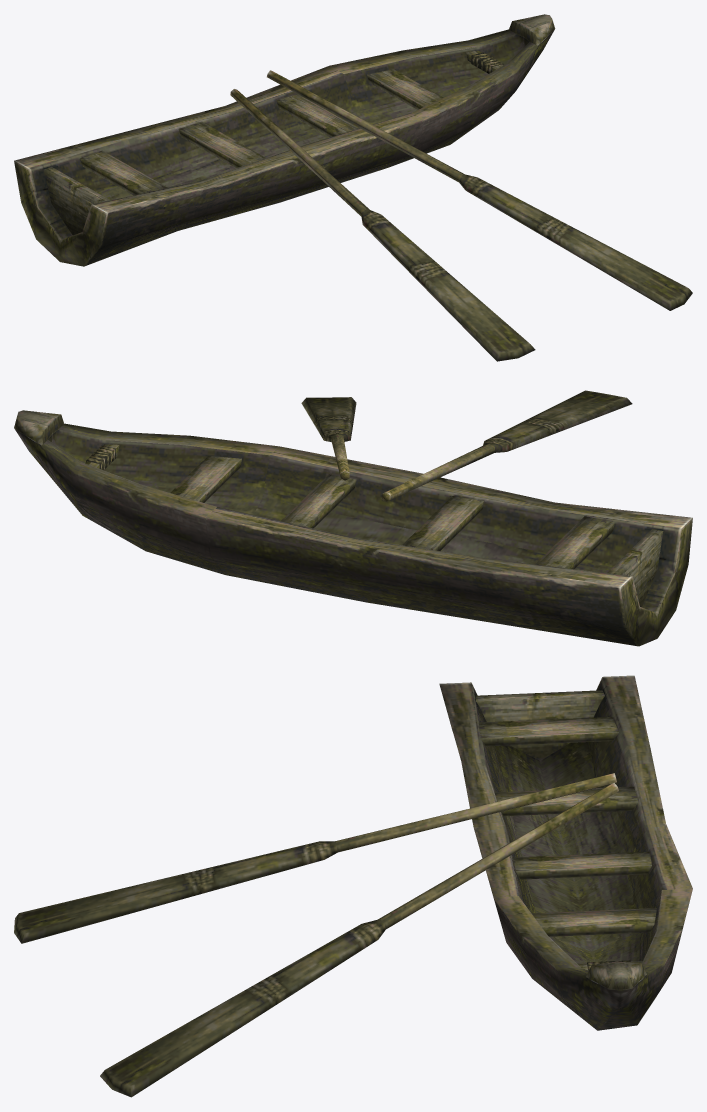
The model's file is 5010_Item_chuan_01.FBX.
3 renders of one model, top to bottom at view 1: azimuth 30°, elevation 25°; view 2: azimuth 150°, elevation 25°; view 3: azimuth 270°, elevation 25°, orthographic. The views are drawn at different scales.
Parts seen in each view (by area): view 1: 5010_Item_chuan_01; view 2: 5010_Item_chuan_01; view 3: 5010_Item_chuan_01.
Part boxes in pixels (<box>): 5010_Item_chuan_01: <box>14,14,692,361</box>; 5010_Item_chuan_01: <box>14,390,692,646</box>; 5010_Item_chuan_01: <box>14,675,692,1097</box>.
Size of the model in its own units: 1766 by 444 by 1555.
